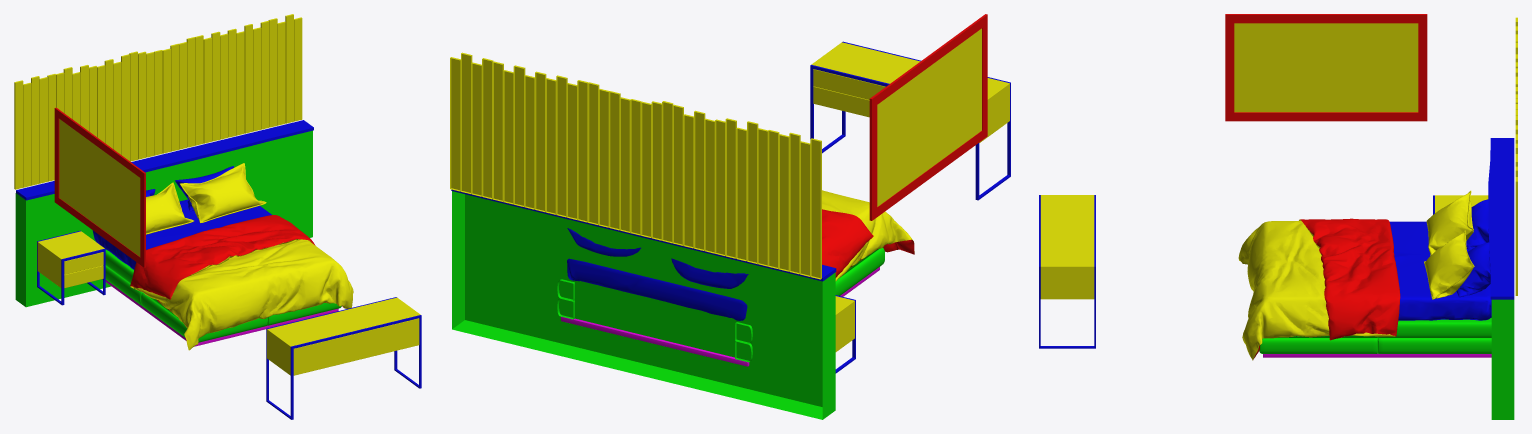
The model's file is objetos-piso2-dormitorio.fbx.
The picture shows the model from 3 angles, left to right: view 1: azimuth 30°, elevation 25°; view 2: azimuth 150°, elevation 25°; view 3: azimuth 270°, elevation 25°; orthographic projection. The views are drawn at different scales.
Visible parts, largest first — view 1: polySurface139, cama_queen, polySurface141, cuadro_4, Bedside Table Dark1, Bedside Table Dark, polySurface142; view 2: polySurface139, polySurface141, cuadro_4, cama_queen, Bedside Table Dark1, Bedside Table Dark, polySurface142; view 3: cama_queen, cuadro_4, Bedside Table Dark1, polySurface142, polySurface141, polySurface139, Bedside Table Dark.
Part boxes in pixels (x1,y1,x2,y2): polySurface139: (14, 14, 302, 189); cama_queen: (92, 163, 353, 350); polySurface141: (15, 130, 312, 307); cuadro_4: (54, 107, 145, 267); Bedside Table Dark1: (266, 297, 421, 419); Bedside Table Dark: (37, 230, 105, 305); polySurface142: (16, 120, 313, 200); polySurface139: (450, 52, 821, 279); polySurface141: (452, 191, 835, 419); cuadro_4: (869, 14, 987, 220); cama_queen: (557, 190, 914, 366); Bedside Table Dark1: (810, 41, 1010, 200); Bedside Table Dark: (835, 295, 855, 373); polySurface142: (451, 189, 836, 281); cama_queen: (1238, 190, 1491, 360); cuadro_4: (1225, 14, 1427, 121); Bedside Table Dark1: (1039, 195, 1095, 348); polySurface142: (1488, 138, 1514, 299); polySurface141: (1491, 299, 1514, 419); polySurface139: (1515, 17, 1517, 295); Bedside Table Dark: (1433, 195, 1488, 214).
Bounding box in the file's own units: 329 × 240 × 420.
